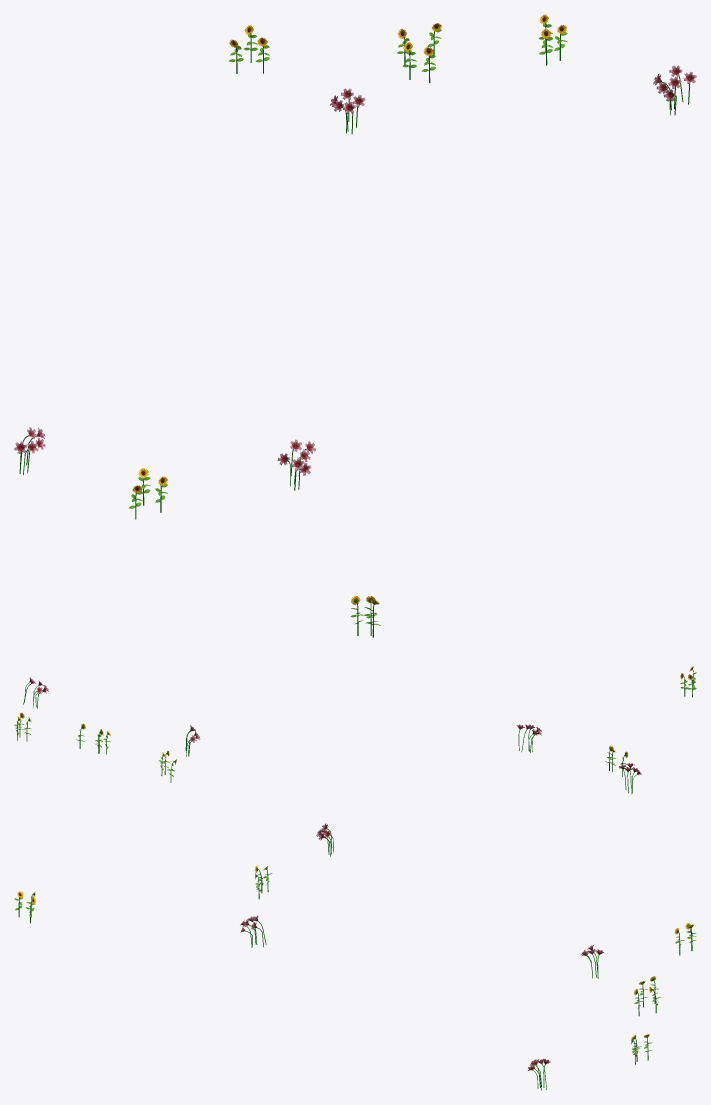
File: Town flowers.fbx
The picture shows the model from 3 angles, top to bottom: view 1: azimuth 30°, elevation 25°; view 2: azimuth 150°, elevation 25°; view 3: azimuth 270°, elevation 25°; orthographic projection. The views are drawn at different scales.
Parts seen in each view (by area): view 1: Flowers; view 2: Flowers; view 3: Flowers.
Part boxes in pixels (left/top/right/bottom): Flowers: left=14, top=14, right=696, bottom=637; Flowers: left=14, top=666, right=696, bottom=794; Flowers: left=14, top=823, right=696, bottom=1090.
Size of the model in its own units: 934 by 186 by 960.
4 materials, 3 textured.
